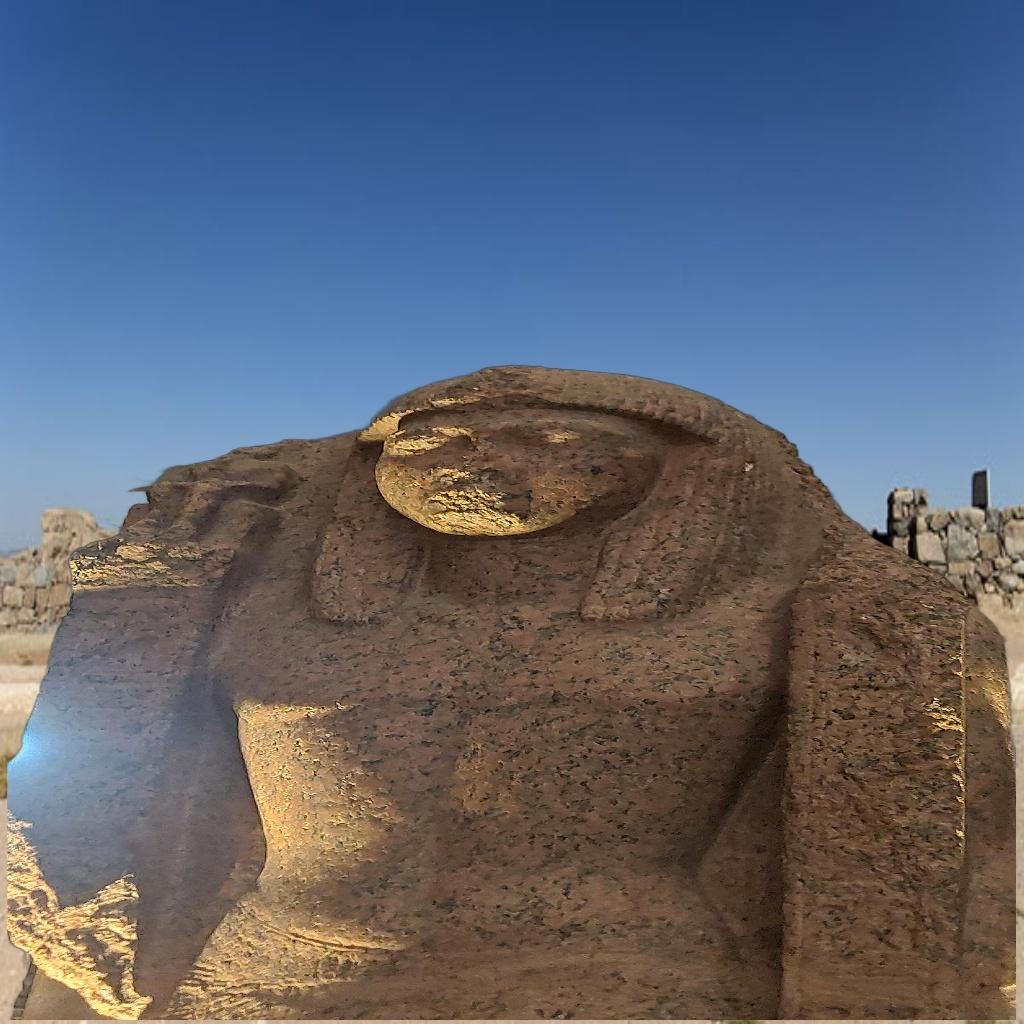Statue of Merenptah as standard Bearer: (7, 362, 1016, 1020)
